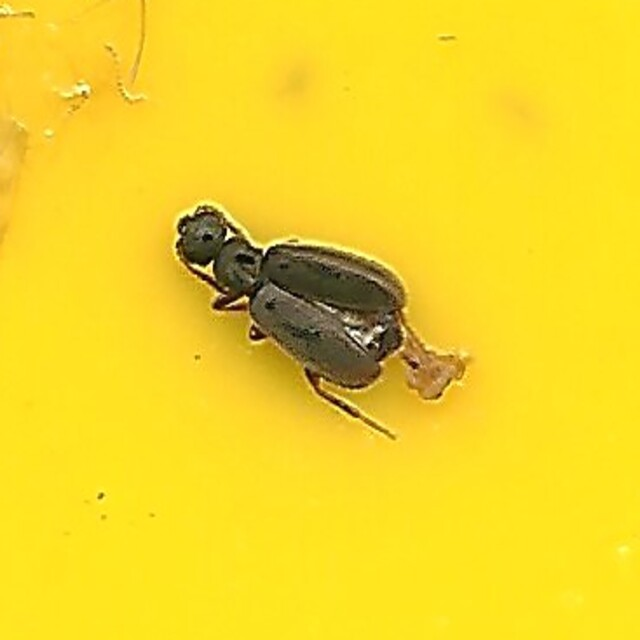Coleoptera: (174, 202, 466, 438)
